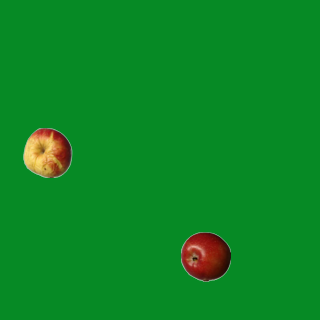Apple Braeburn: (180, 231, 230, 281)
Apple Red Yellow 1: (22, 127, 72, 177)
